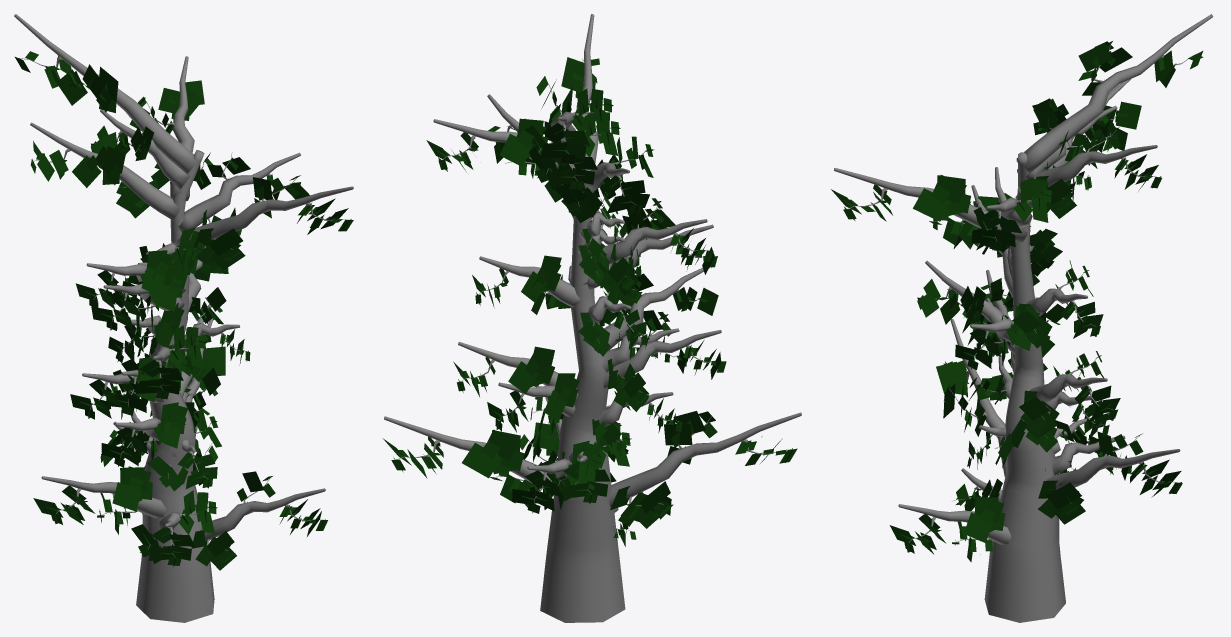
File: Tree D.obj
3 renders of one model, left to right at view 1: azimuth 30°, elevation 25°; view 2: azimuth 150°, elevation 25°; view 3: azimuth 270°, elevation 25°, orthographic. The views are drawn at different scales.
Parts seen in each view (by area): view 1: TreeD polySurface1, polySurface937 TreeD; view 2: TreeD polySurface1, polySurface937 TreeD; view 3: TreeD polySurface1, polySurface937 TreeD.
Part boxes in pixels (x1,y1,x2,y2): TreeD polySurface1: (15, 51, 353, 570); polySurface937 TreeD: (14, 14, 353, 622); TreeD polySurface1: (382, 57, 797, 546); polySurface937 TreeD: (384, 14, 801, 622); TreeD polySurface1: (831, 41, 1203, 562); polySurface937 TreeD: (834, 14, 1212, 622).
Bounding box in the file's own units: 1.93 × 3.45 × 2.17.
